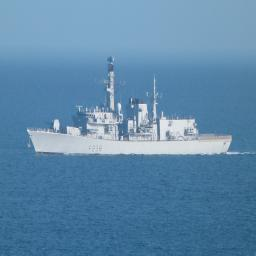Fragata: (26, 54, 234, 159)
